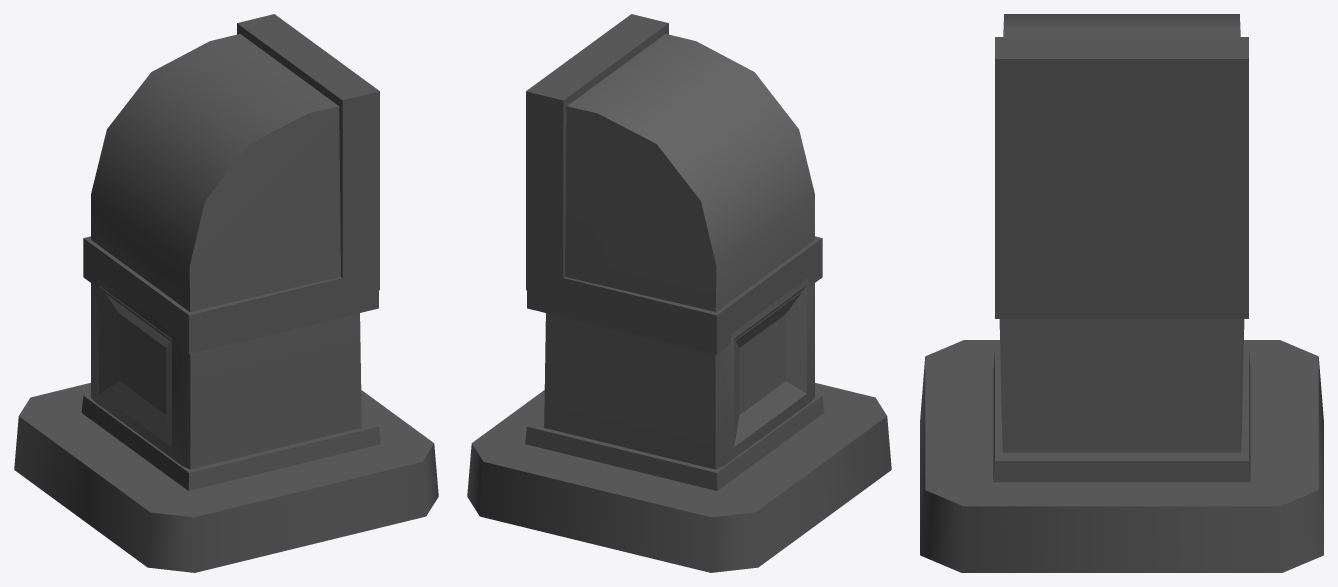
Rendered from Vent_2_B_3.fbx.
The picture shows the model from 3 angles, left to right: view 1: azimuth 30°, elevation 25°; view 2: azimuth 150°, elevation 25°; view 3: azimuth 270°, elevation 25°; orthographic projection. The views are drawn at different scales.
Parts seen in each view (by area): view 1: Vent_2_B_3; view 2: Vent_2_B_3; view 3: Vent_2_B_3.
Boxes of the visible parts, x1,y1,x2,y2 form: Vent_2_B_3: [14, 14, 438, 572]; Vent_2_B_3: [467, 14, 891, 572]; Vent_2_B_3: [920, 14, 1323, 572].
Bounding box in the file's own units: 56.66 × 75.52 × 56.66.
